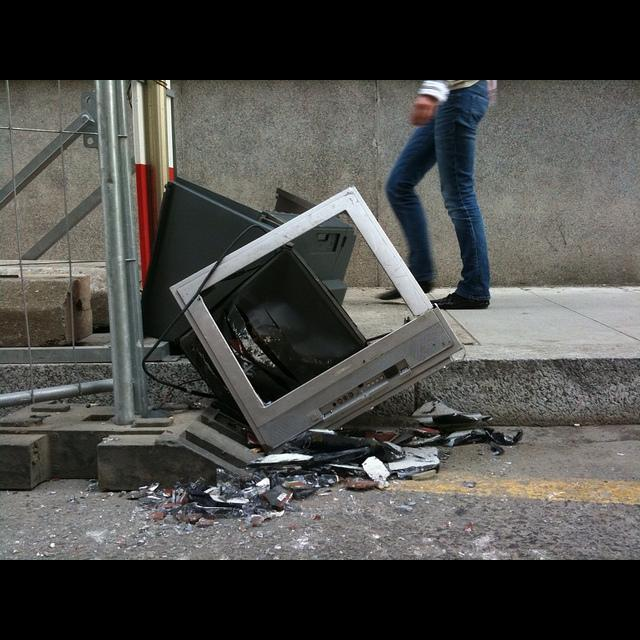Flat-Panel-TV: (168, 184, 462, 456)
